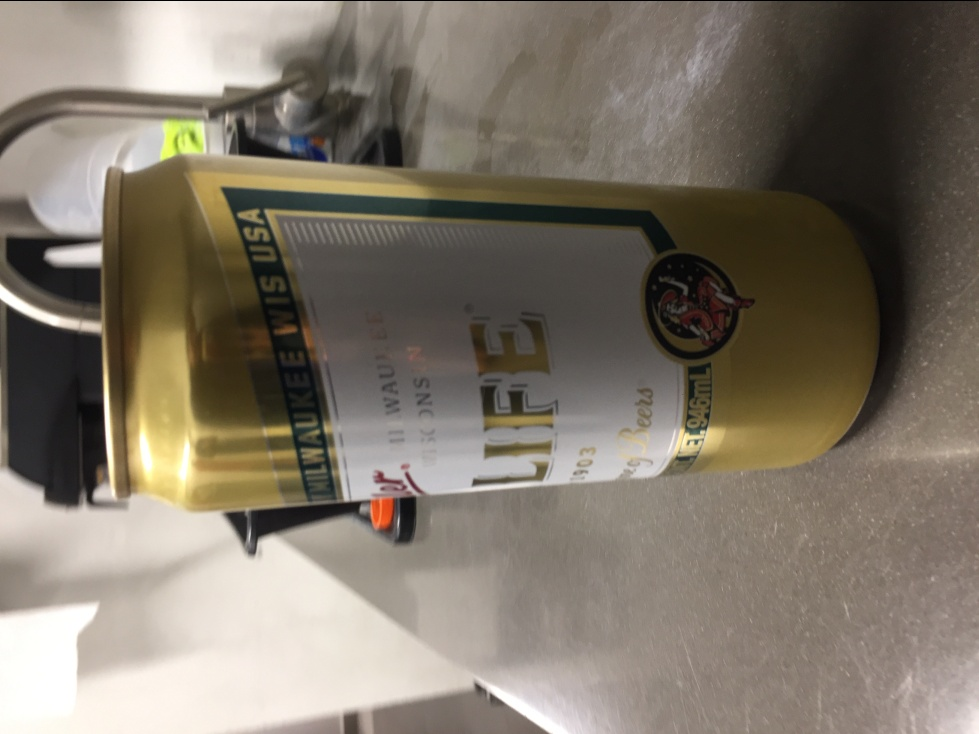miller: (95, 151, 885, 511)
